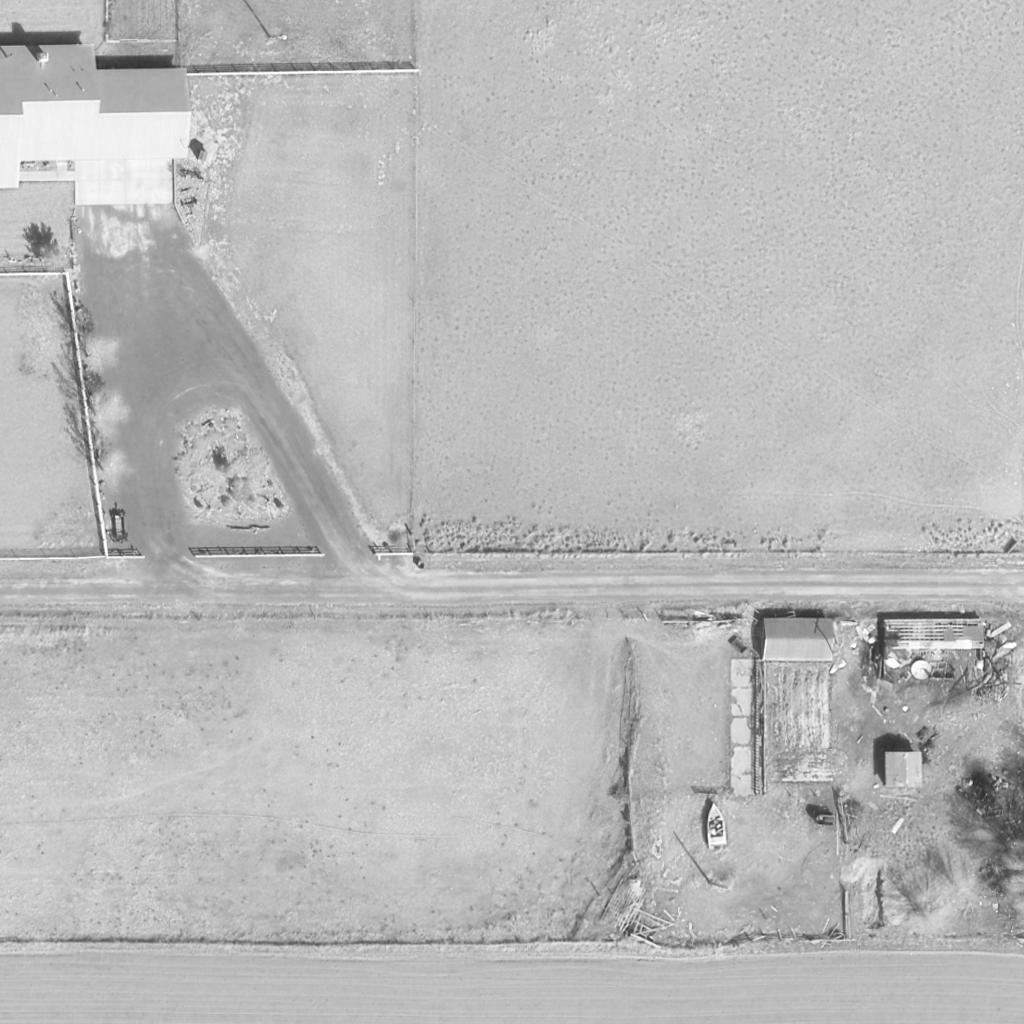vehicle: (707, 803, 729, 847)
